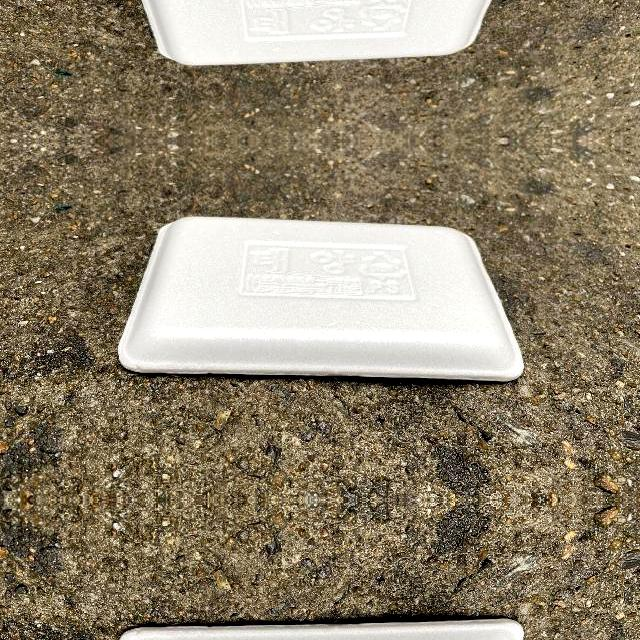Styrofoam: (118, 215, 524, 381), (118, 217, 522, 381), (117, 0, 522, 63), (142, 0, 492, 65)
